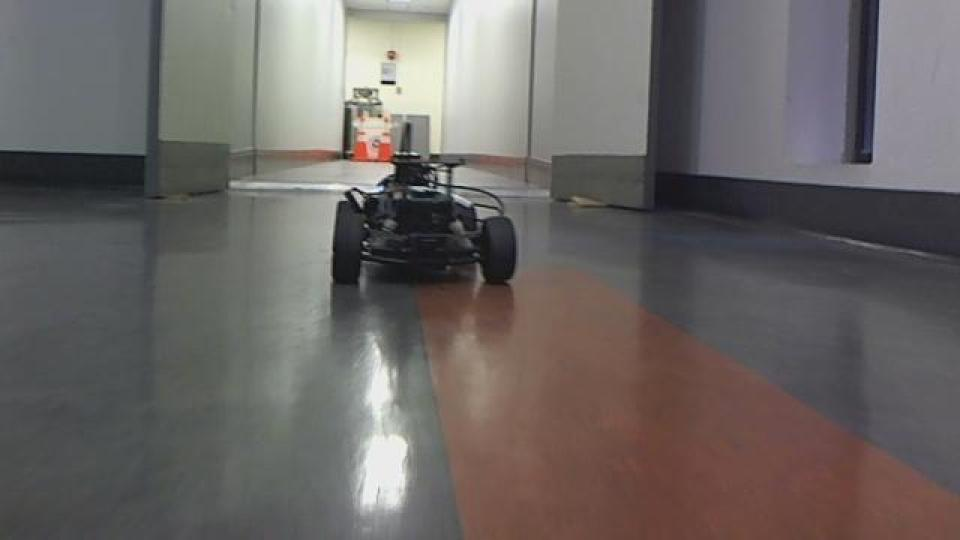car: (327, 148, 519, 288)
